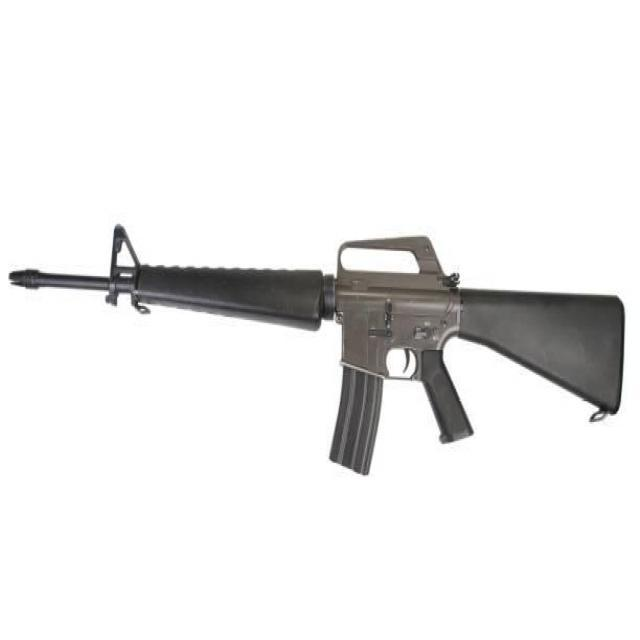weapon: (8, 223, 626, 480)
